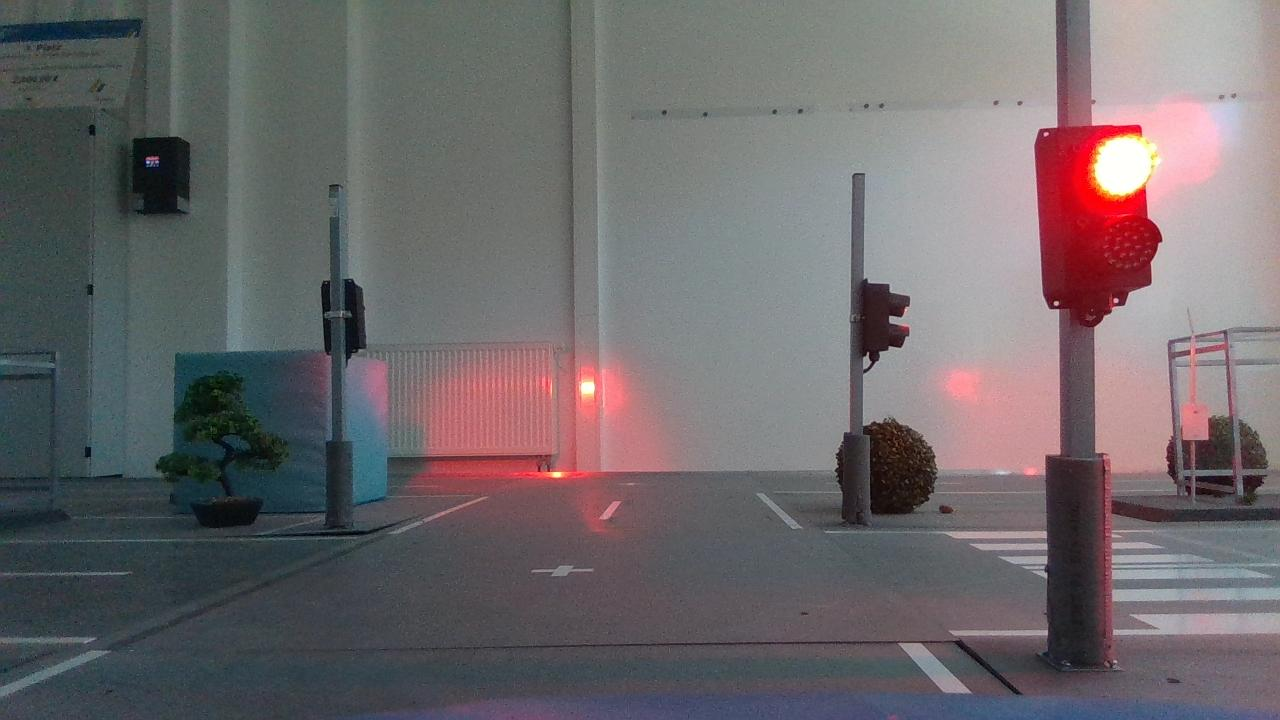traffic_light_red: (1026, 105, 1170, 315)
